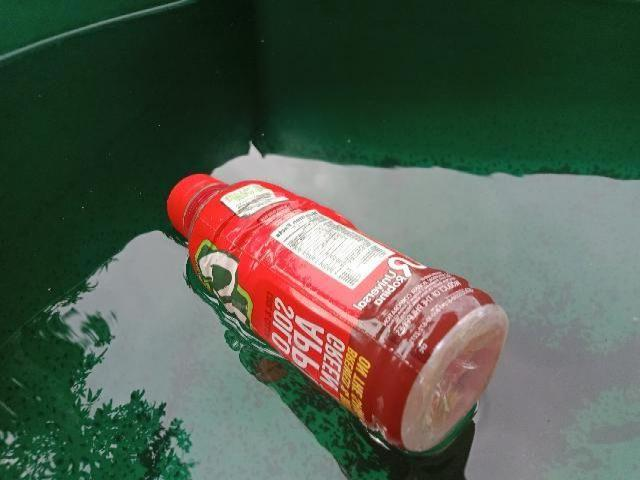Bottle: (154, 164, 520, 462)
